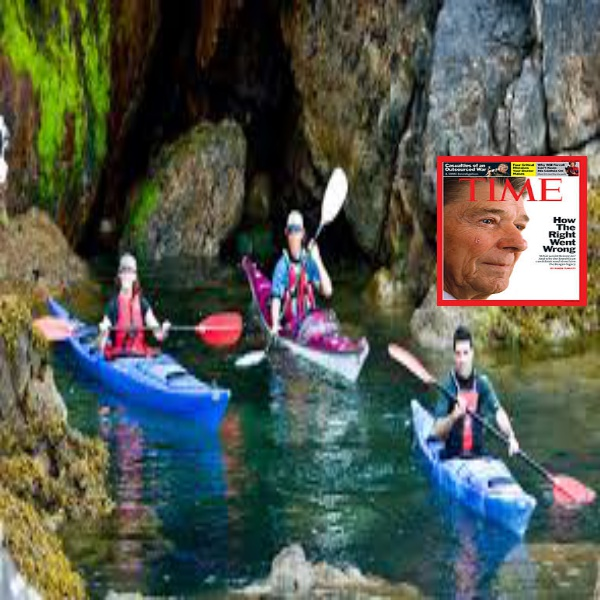time_cover: (432, 146, 586, 309)
